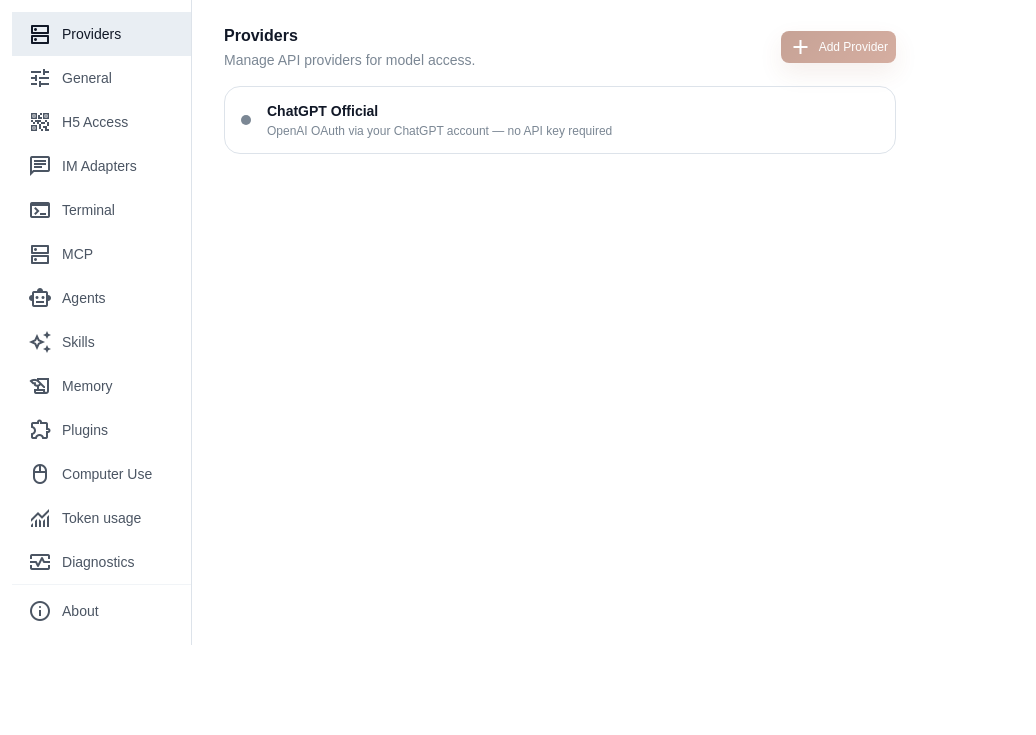
Test: Settings > Plugins tab › renders plugin browser summary and grouped cards
This screenshot has width=1036, height=735.
Click the button "Plugins" at (102, 430), box [12,408,191,452]
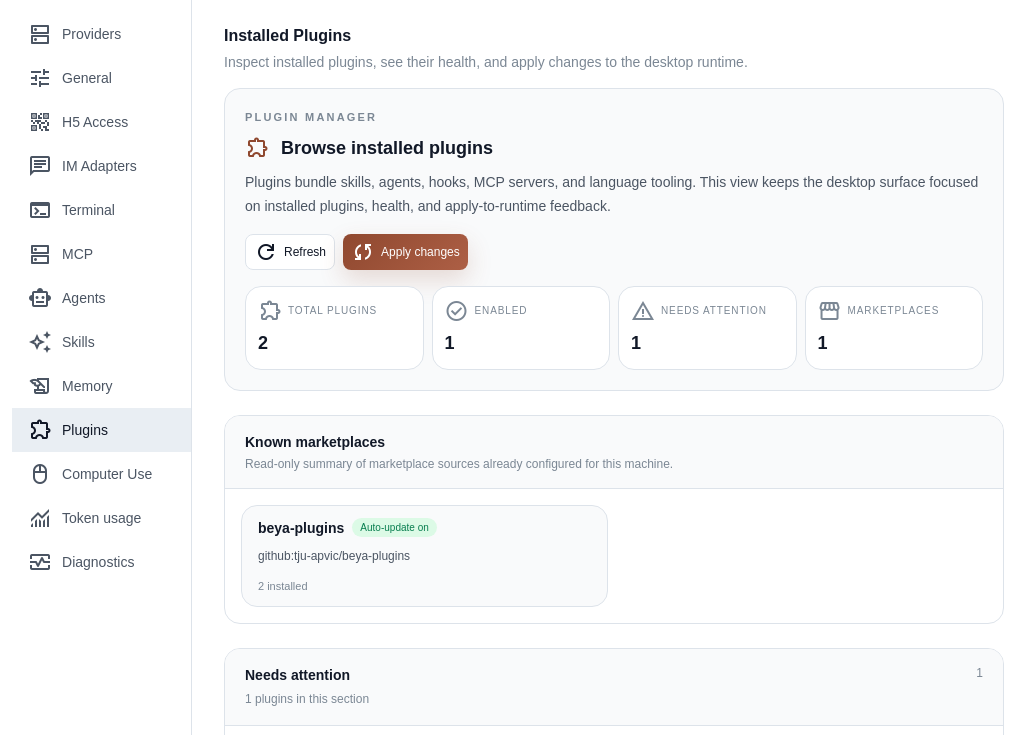
expect the heading "Browse installed plugins" is shown: met, box [281,134,493,162]
expect the text "Plugin Manager" is shown: met, box [245,111,377,123]
expect the text "Needs attention" is shown: met, box [661,302,767,318]
